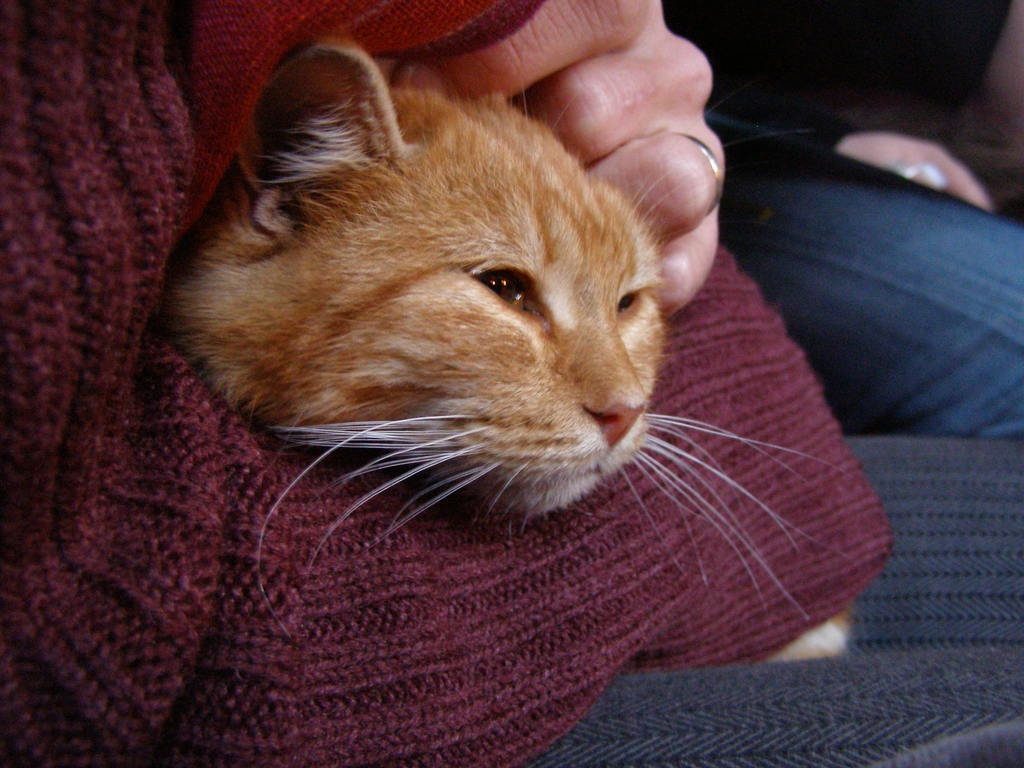Human_hand: (385, 0, 723, 303)
